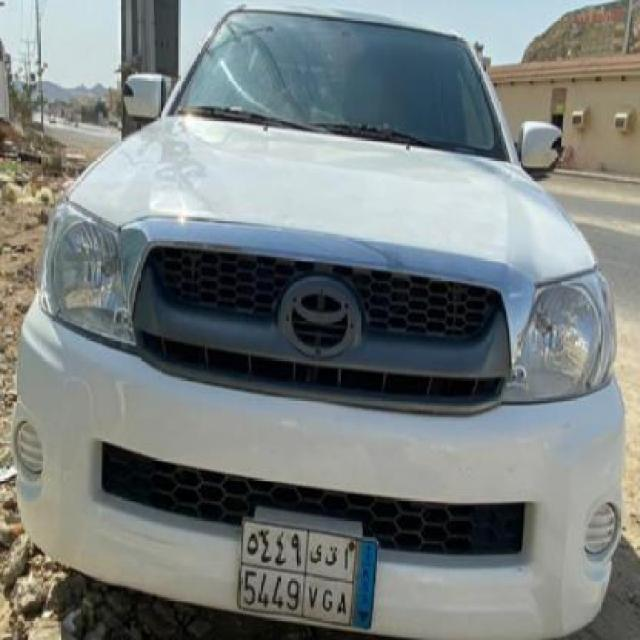license_plate: (235, 514, 380, 632)
